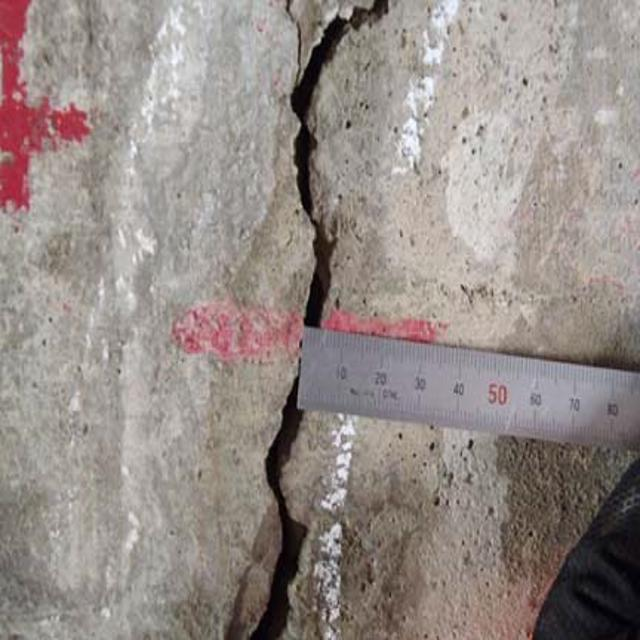crack: (233, 17, 377, 627)
